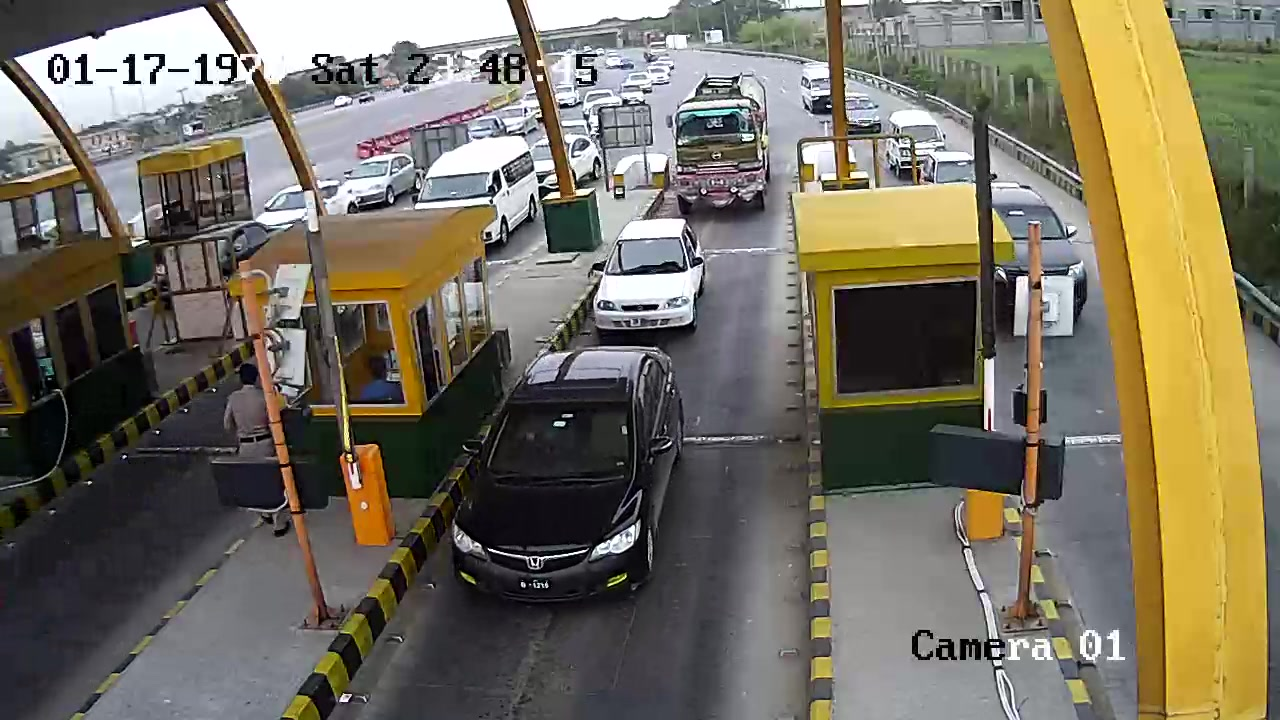F1: (455, 344, 689, 608)
